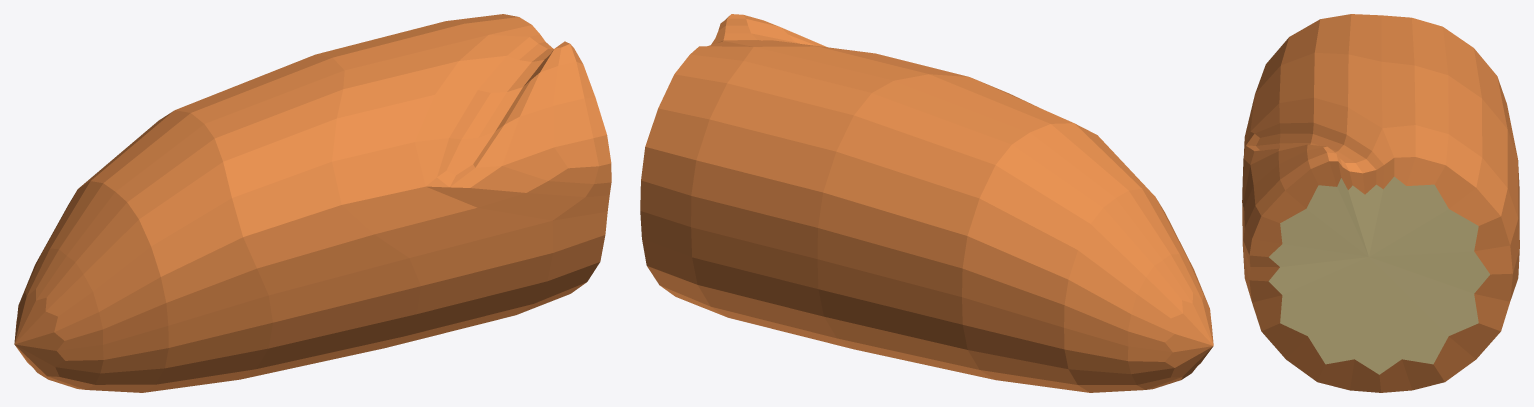
The model's file is BaugetteLeft.fbx.
3 views of the same model, side by side, from view 1: azimuth 30°, elevation 25°; view 2: azimuth 150°, elevation 25°; view 3: azimuth 270°, elevation 25° (orthographic). The views are drawn at different scales.
Visible parts, largest first — view 1: Куб.001; view 2: Куб.001; view 3: Куб.001.
Part boxes in pixels (x1=…): Куб.001: x1=14, y1=14, x2=611, y2=392; Куб.001: x1=640, y1=14, x2=1213, y2=392; Куб.001: x1=1242, y1=14, x2=1519, y2=392.
Bounding box in the file's own units: 208 × 98.68 × 99.23.
